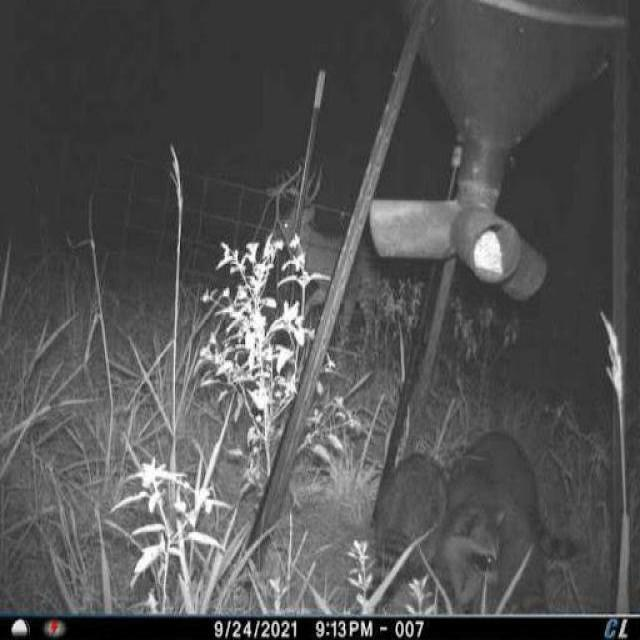deer: (256, 154, 409, 362)
